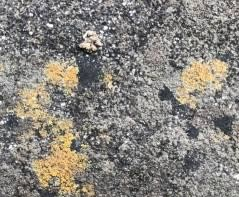Corrosion: (14, 61, 96, 197), (175, 57, 230, 111)
